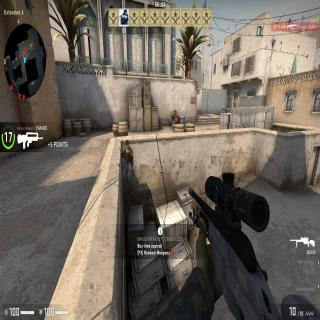T-Body: (121, 138, 134, 186), (171, 108, 179, 133)
T-Head: (125, 140, 129, 150), (174, 108, 176, 114)
